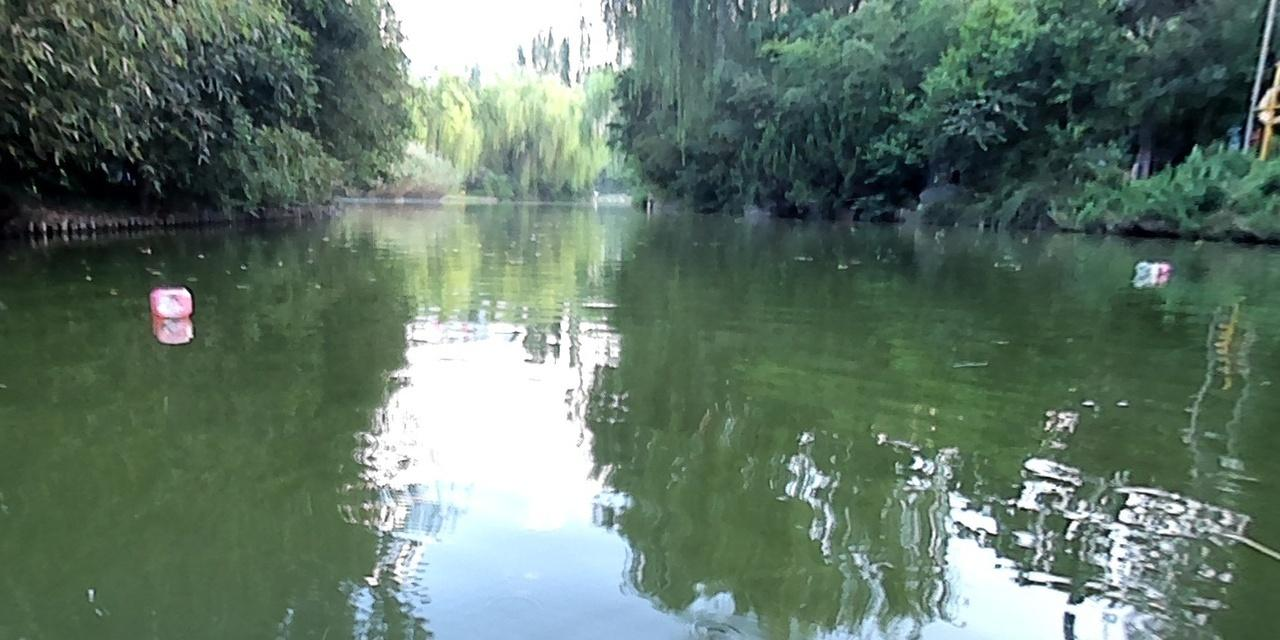bottle: (148, 285, 191, 316), (1134, 259, 1170, 277)
